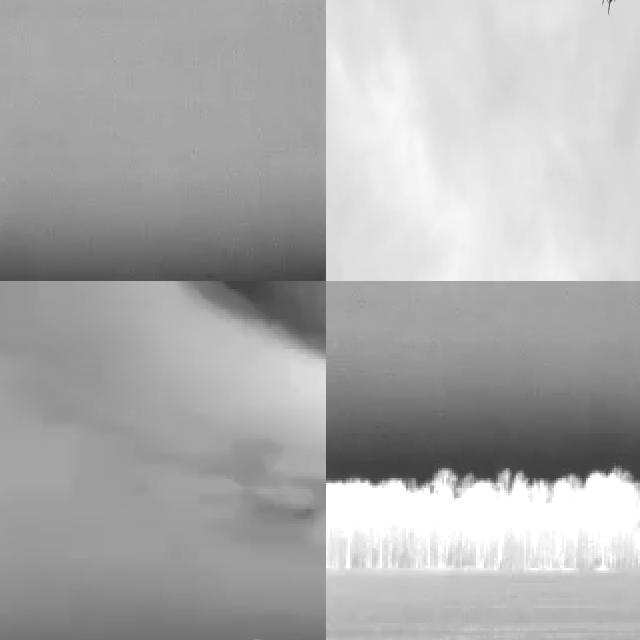drone: (597, 0, 616, 11)
